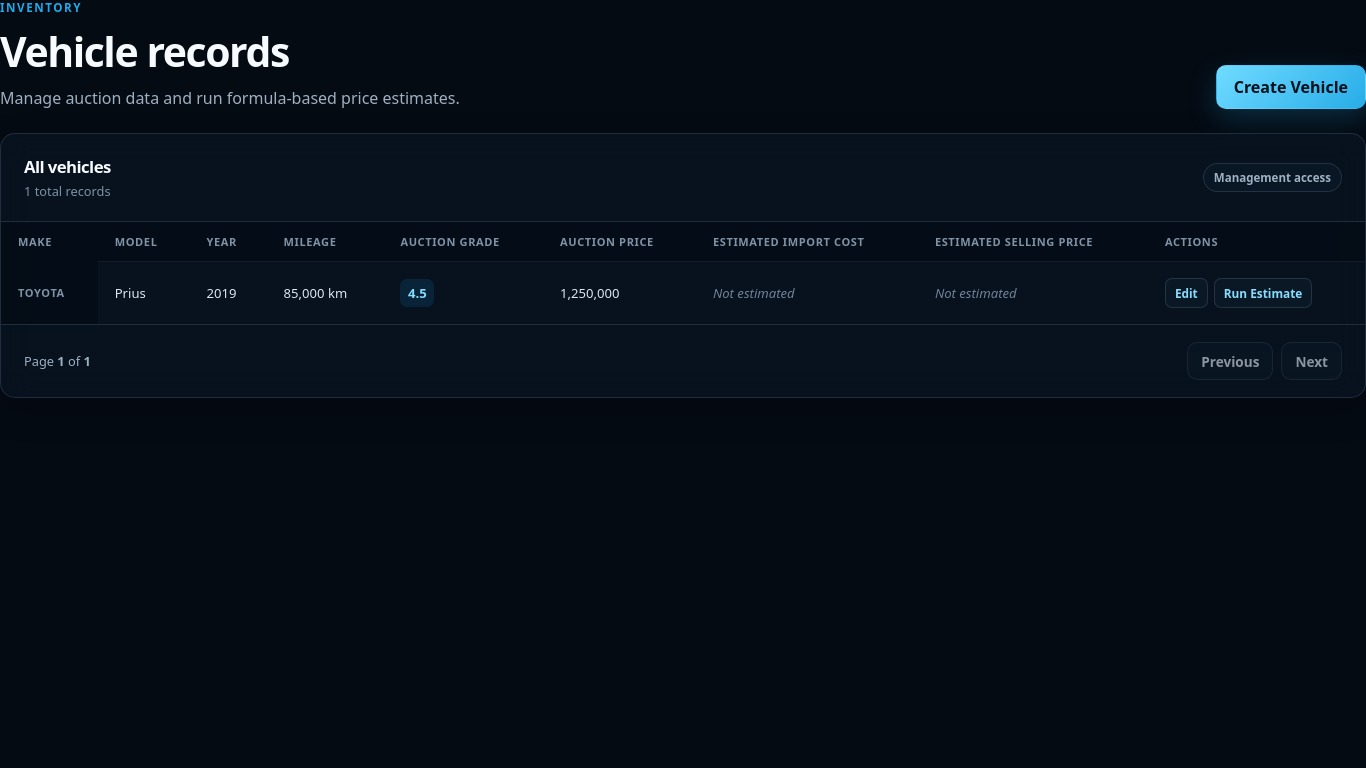
Test case: VehiclesPage › displays backend validation details from create
This screenshot has width=1366, height=768.
expect the column heading "Toyota" is shown: met, box [1,262,98,324]
Click the button "Create Vehicle": (1291, 87) [1216,65,1365,109]
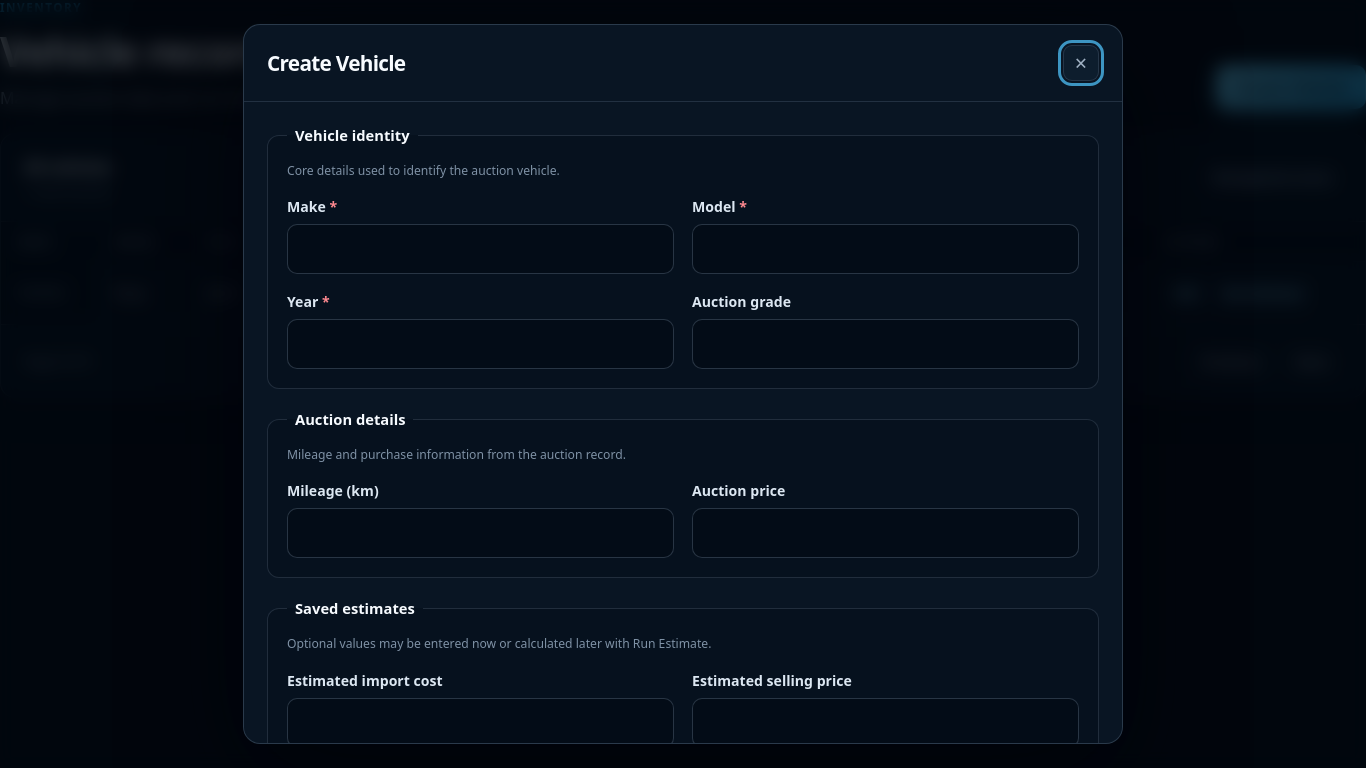
In the field labelled "Make *": (480, 249) [287,224,674,274], type "Honda"
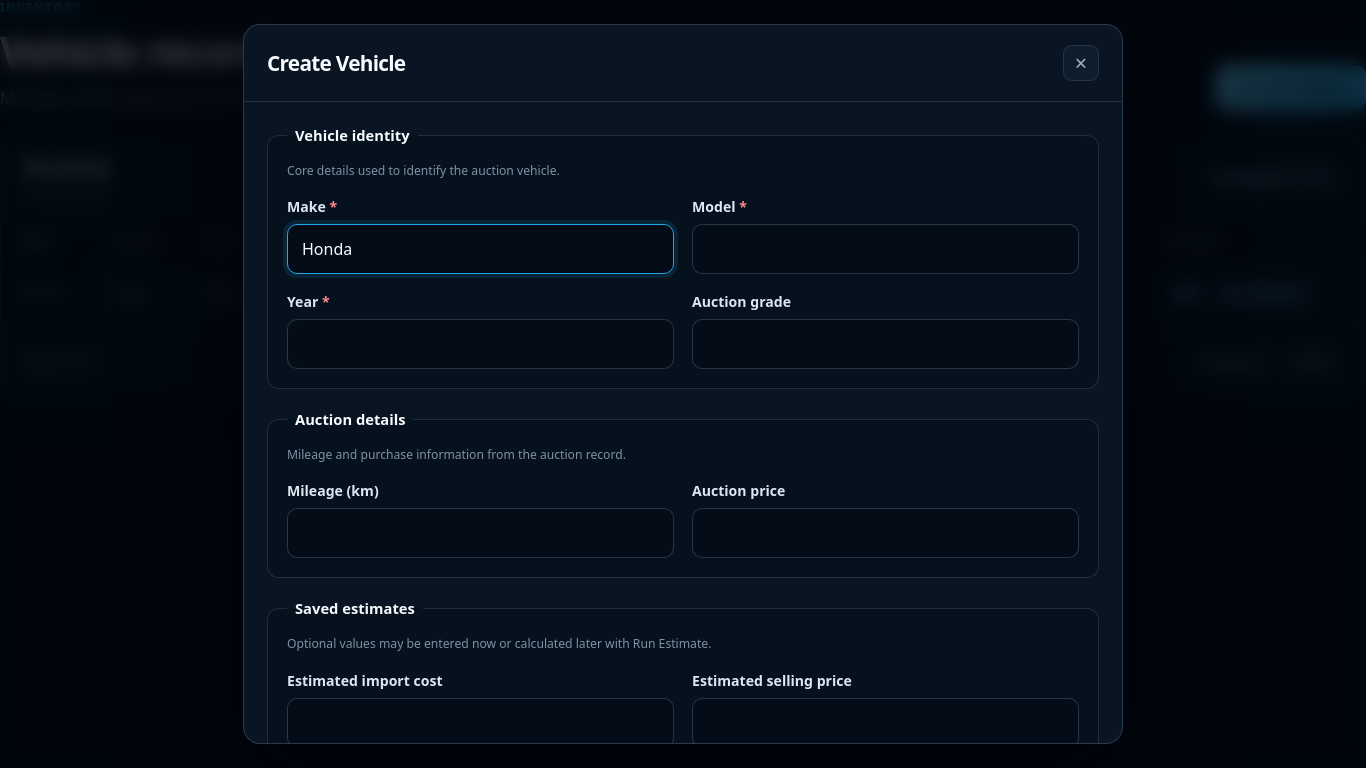
In the field labelled "Model *": (886, 249) [692,224,1079,274], type "Vezel"
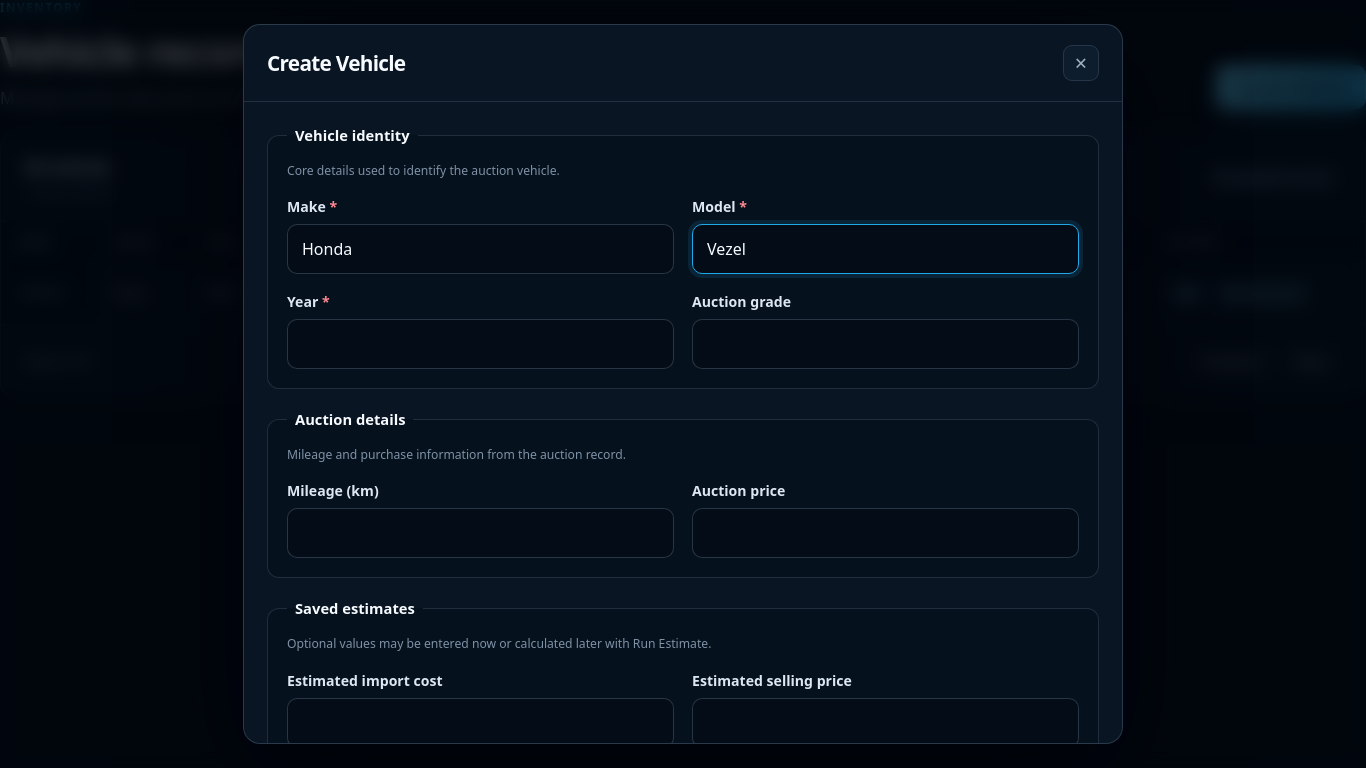
In the number field labelled "Year *": (480, 344) [287,319,674,369], type "2021"
(page scrolled)
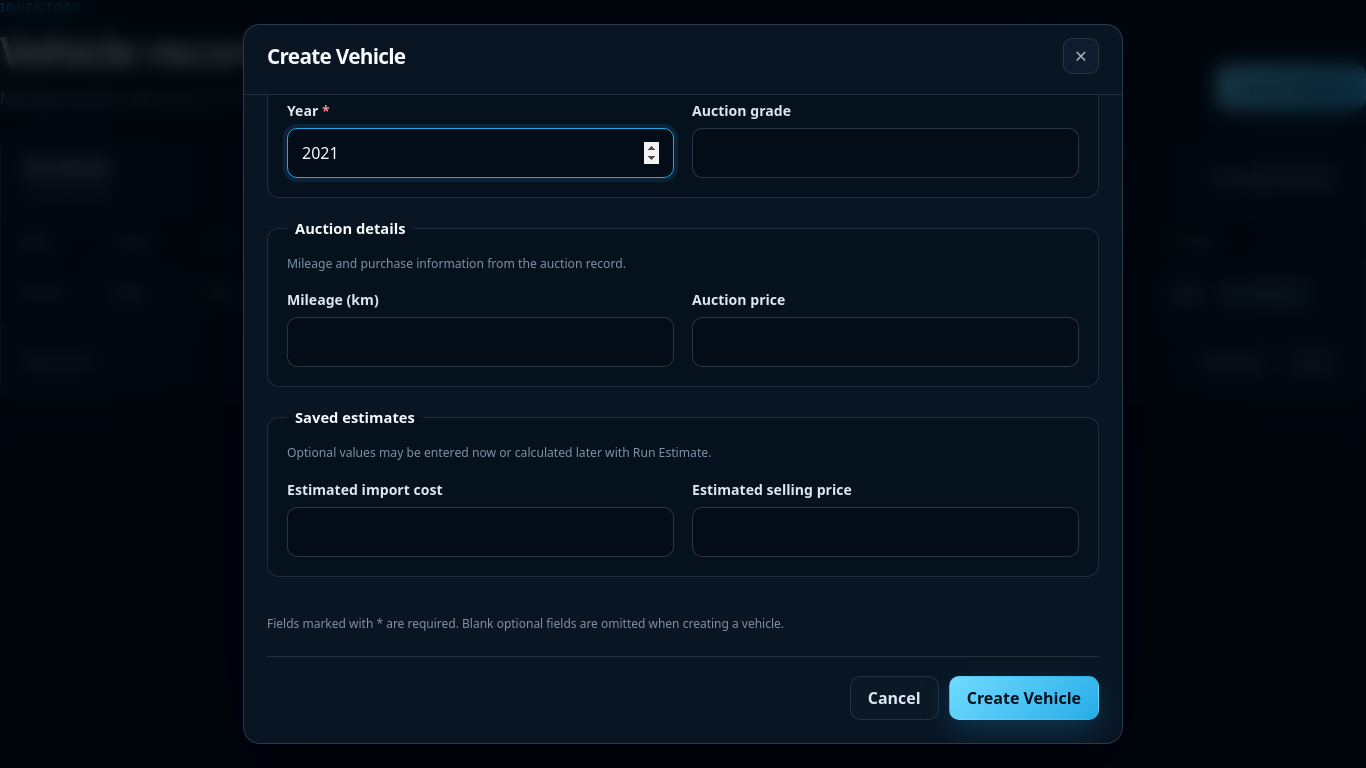
Click the button "Create Vehicle": (1024, 698) [949,676,1099,720]
(page scrolled)
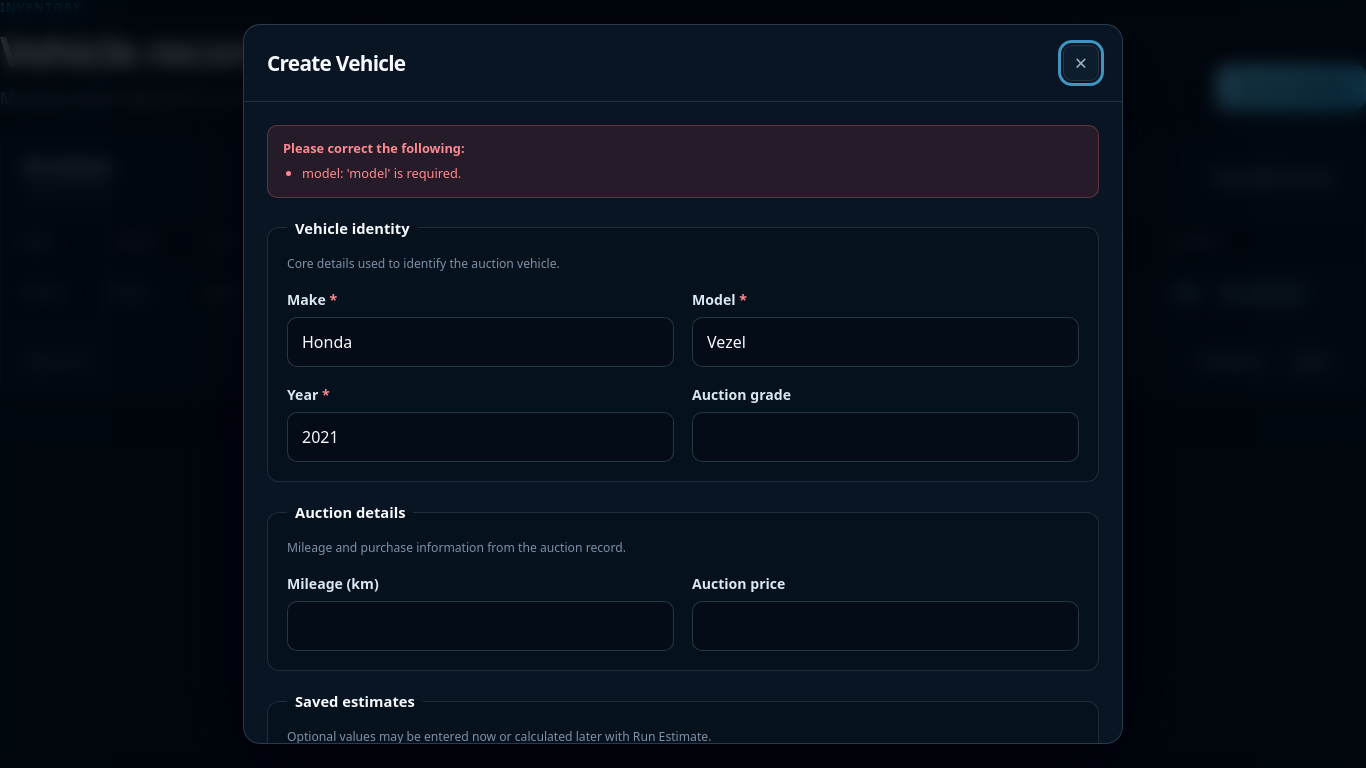
expect the message shows "model: 'model' is required.": met, box [302,164,461,182]
